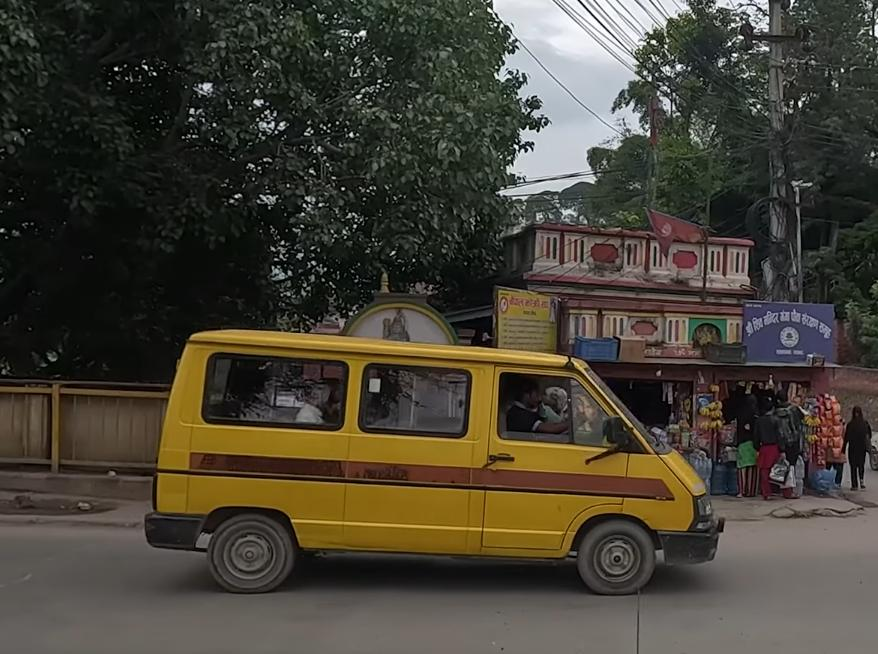school_bus: (139, 324, 729, 598)
